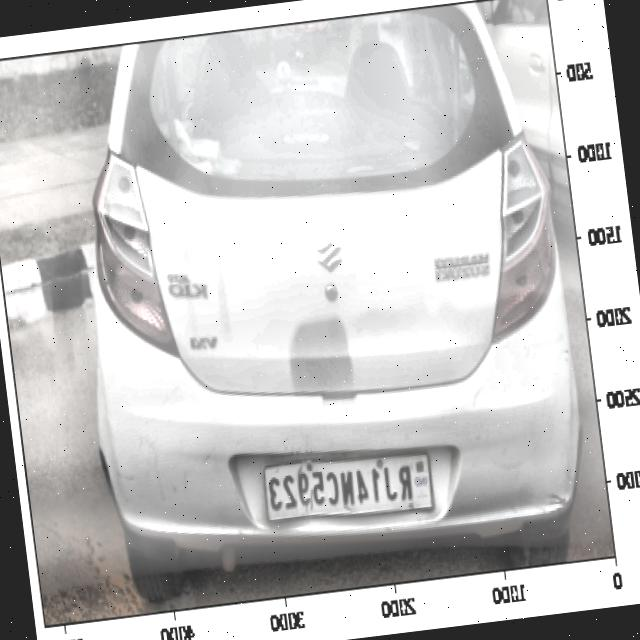license_plate: (258, 451, 426, 526)
